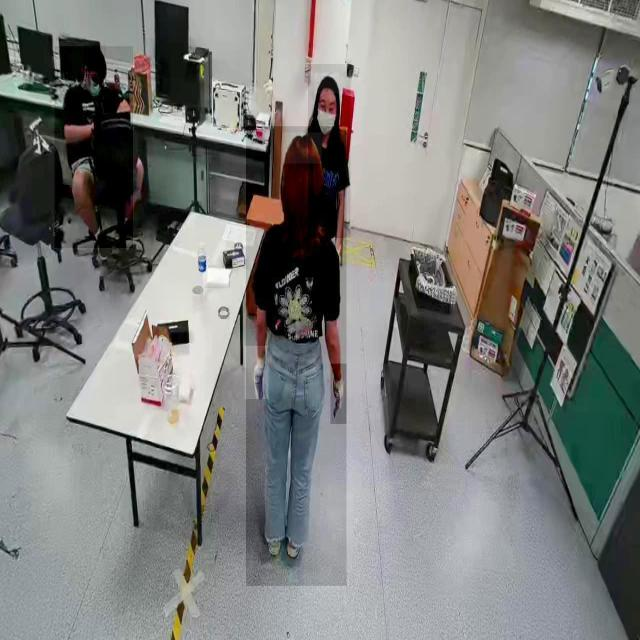face_mask: (314, 100, 337, 132), (78, 74, 104, 98)
hand_glove: (245, 346, 269, 400), (331, 363, 347, 425)
head_nohelmet: (282, 132, 322, 164), (84, 44, 106, 72), (314, 73, 340, 94)
person: (246, 126, 347, 587), (54, 46, 134, 249), (308, 64, 351, 238)
shoes: (259, 508, 283, 558), (115, 208, 145, 244), (91, 221, 115, 263), (283, 513, 303, 563)
